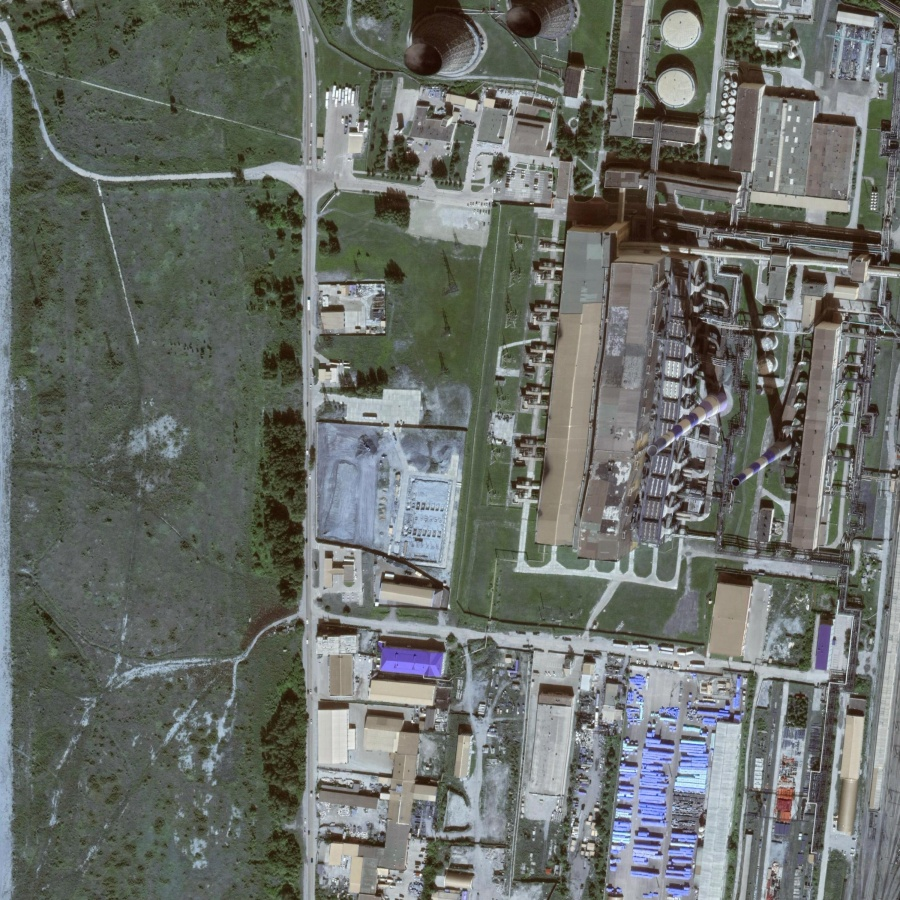PowerPlant: (616, 189, 870, 517)
